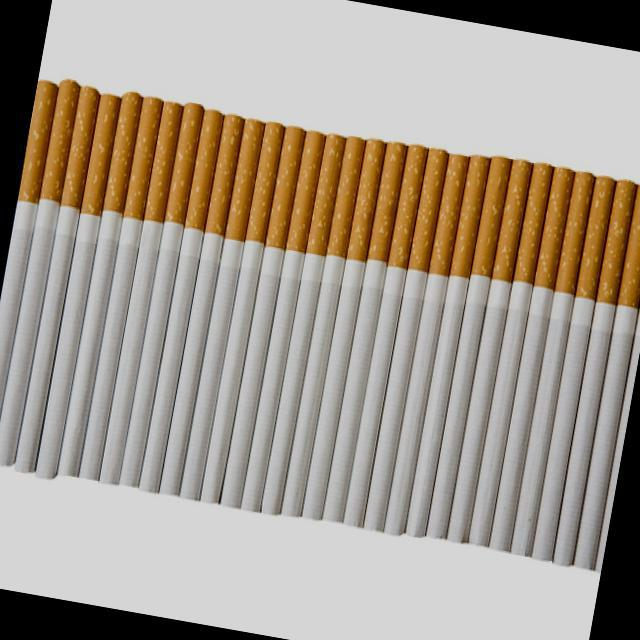cigarette: (238, 110, 330, 521)
